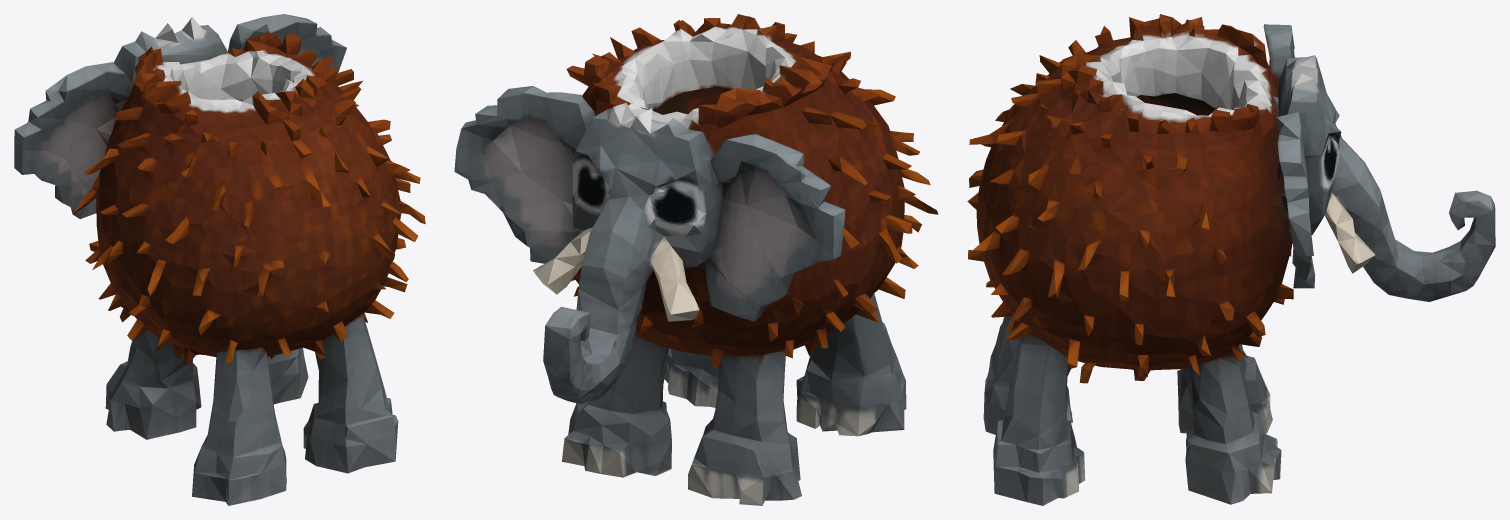
File: CocofantoElefanto.glb
3 renders of one model, left to right at view 1: azimuth 30°, elevation 25°; view 2: azimuth 150°, elevation 25°; view 3: azimuth 270°, elevation 25°, orthographic. The views are drawn at different scales.
Parts seen in each view (by area): view 1: geometry_0; view 2: geometry_0; view 3: geometry_0.
Part boxes in pixels (left/top/right/bottom): geometry_0: left=14, top=14, right=425, bottom=505; geometry_0: left=454, top=14, right=938, bottom=505; geometry_0: left=967, top=14, right=1495, bottom=505.
Bounding box in the file's own units: 0.96 × 1 × 1.21.
Materials: 1 (1 with a texture image).
